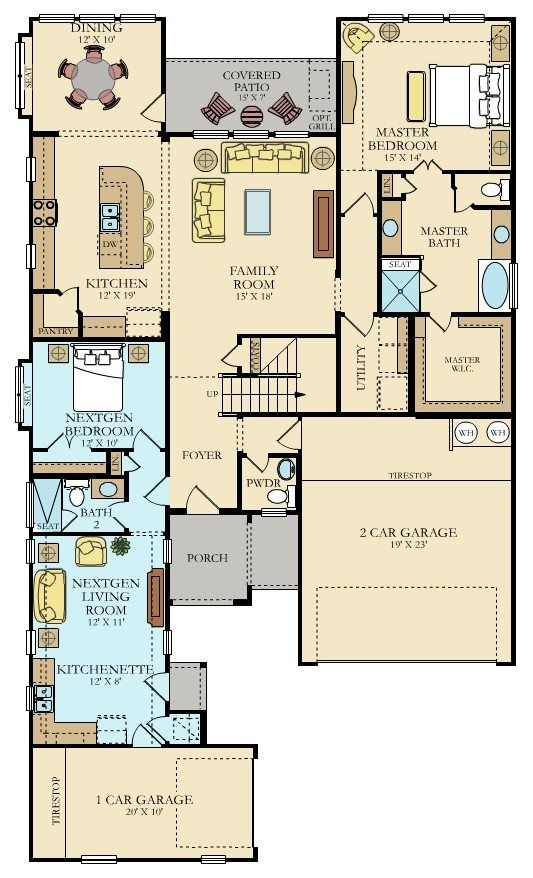door: (137, 477, 168, 505), (187, 485, 218, 513), (344, 310, 373, 338), (344, 190, 373, 218), (275, 419, 301, 449), (131, 427, 160, 449), (428, 310, 451, 335), (449, 188, 472, 212), (246, 452, 268, 475), (220, 344, 242, 367), (398, 176, 418, 193)
room: (28, 532, 170, 748), (336, 16, 515, 173), (377, 168, 516, 315), (29, 336, 171, 451)
window: (13, 366, 26, 422), (191, 130, 230, 141), (232, 128, 267, 140), (38, 13, 76, 24), (78, 13, 116, 24), (119, 13, 157, 24), (367, 13, 405, 24), (407, 13, 445, 24), (448, 13, 486, 24), (275, 128, 309, 140), (25, 482, 34, 527), (81, 853, 117, 864), (25, 156, 38, 182), (24, 244, 37, 270), (24, 685, 36, 711), (25, 537, 36, 564), (25, 629, 36, 656), (162, 628, 173, 655), (200, 854, 225, 864)
